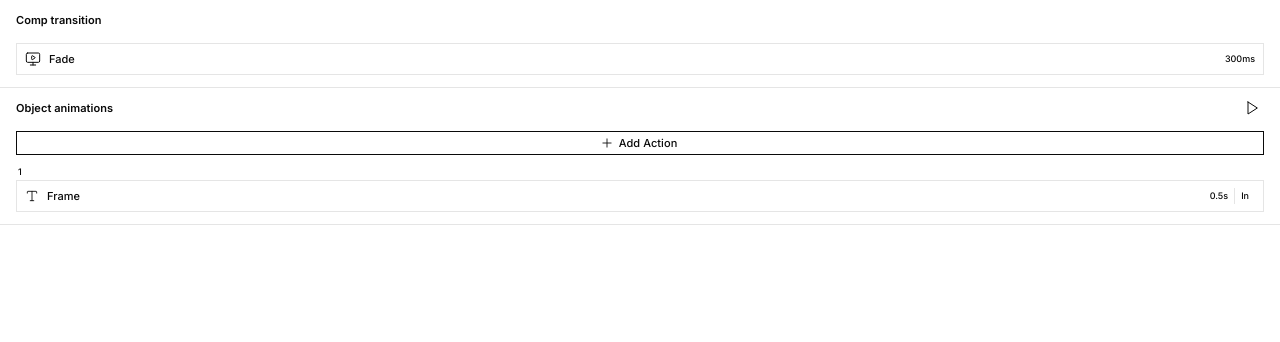
AnimatePanel — legacy unsupported preset records › names an unsupported style instead of degrading the field to Value
The image size is (1280, 342).
Click the button "Frame 0.5s In" at [63, 196], box [16, 180, 1264, 212]
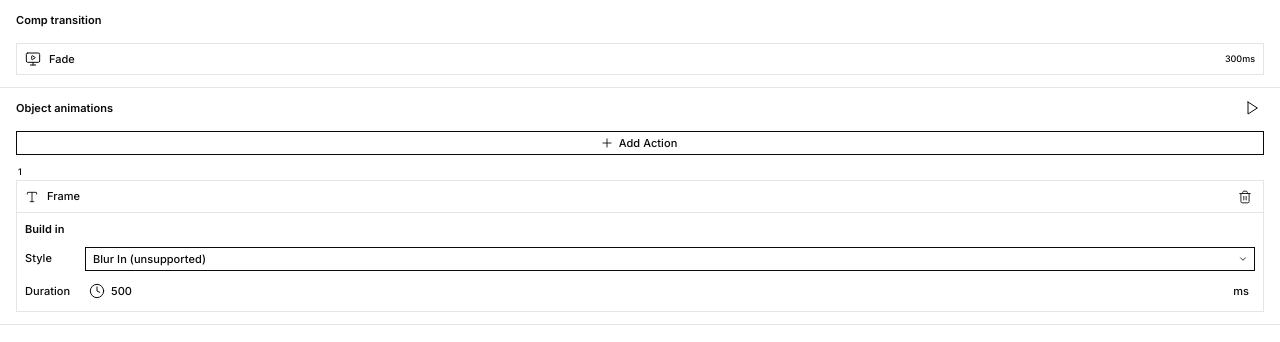
expect the button "Blur In (unsupported)" is shown: met, box [85, 247, 1255, 271]
